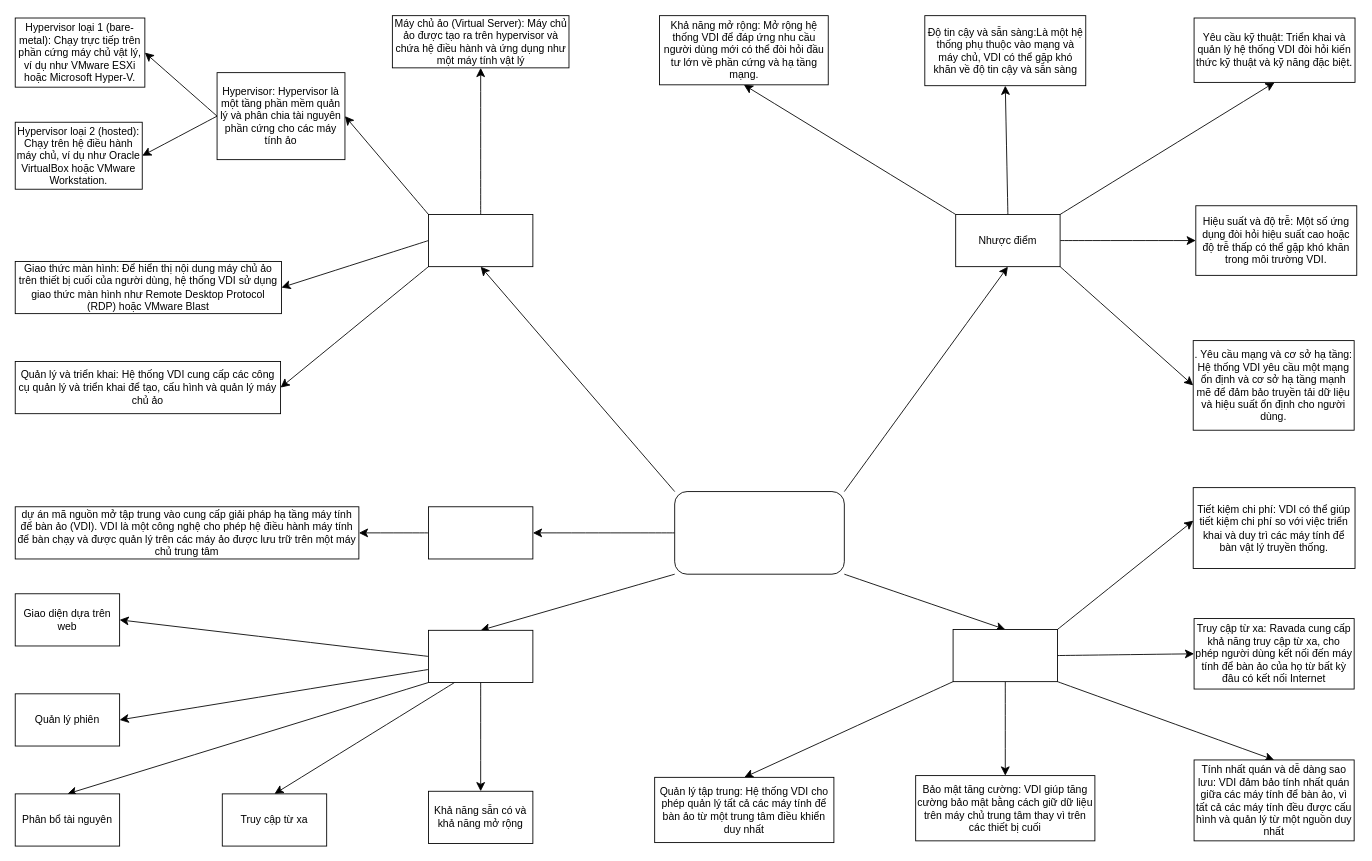
Image size: 1372x861. Some labels were removed from this diagram. Each missing label, with the centre of its shape:
"Các công nghệ ảo hóa phổ biến" belongs at pixel 480 240.
"Khái niệm" belongs at pixel 480 532.
"RAVADA VDI PROJECT" belongs at pixel 759 532.
"Tính năng" belongs at pixel 480 656.
"Ưu điểm" belongs at pixel 1004 655.
